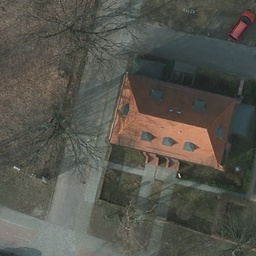car: (226, 8, 255, 42)
